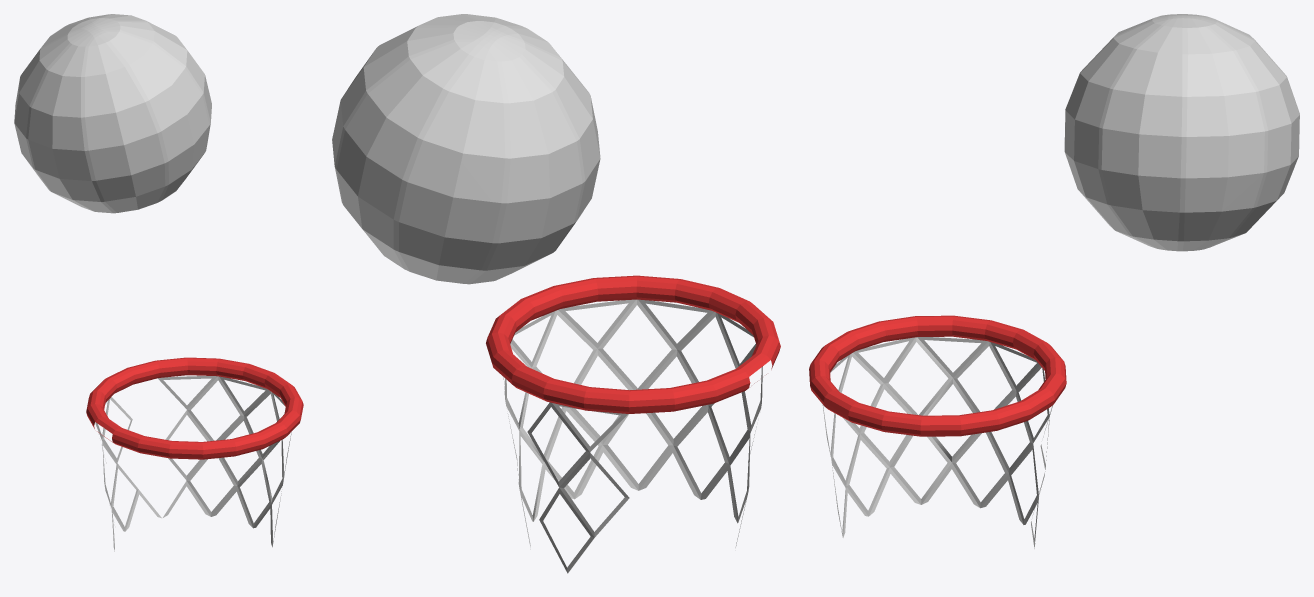
Rendered from poly-animated-hoop.glb.
The picture shows the model from 3 angles, left to right: view 1: azimuth 30°, elevation 25°; view 2: azimuth 150°, elevation 25°; view 3: azimuth 270°, elevation 25°; orthographic projection. The views are drawn at different scales.
Parts seen in each view (by area): view 1: Sphere, ring, net; view 2: Sphere, ring, net; view 3: Sphere, ring, net.
Part boxes in pixels (box(x1,y1,x2,y2)): Sphere: box(14, 14, 211, 213); ring: box(86, 357, 303, 459); net: box(95, 376, 291, 551); Sphere: box(332, 14, 600, 284); ring: box(486, 275, 780, 413); net: box(503, 299, 762, 573); Sphere: box(1064, 14, 1299, 251); ring: box(809, 315, 1066, 436); net: box(822, 337, 1052, 548).
Bounding box in the file's own units: 1.29 × 2.73 × 2.28.
